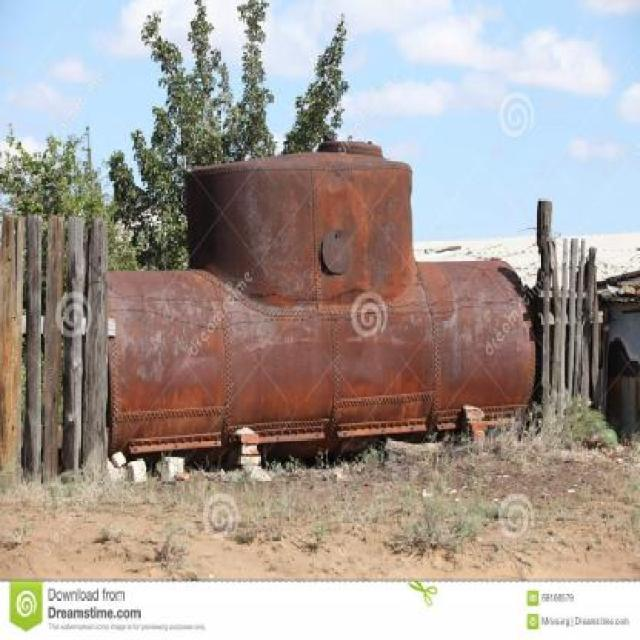corrosion: (108, 153, 542, 449)
